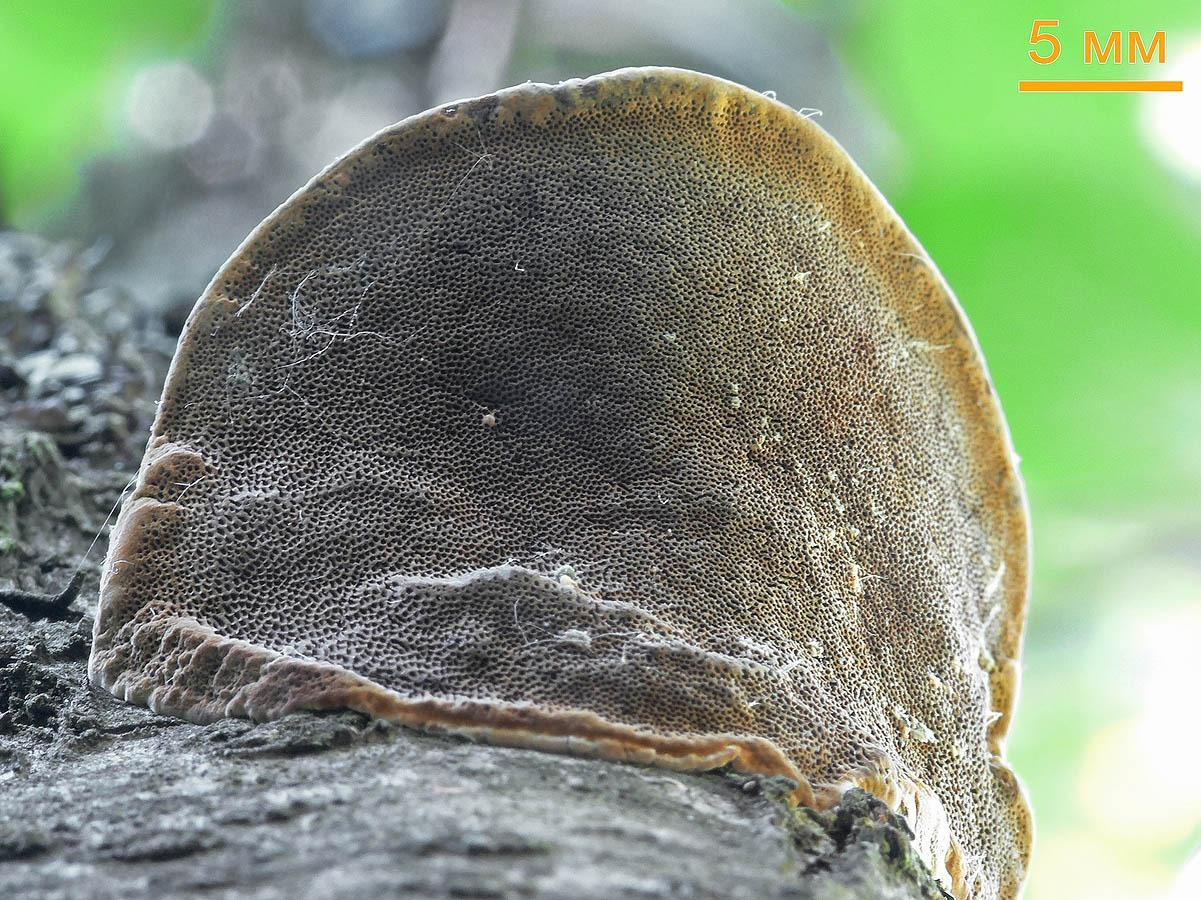Plum tinder fungus: (2, 0, 1194, 880)
